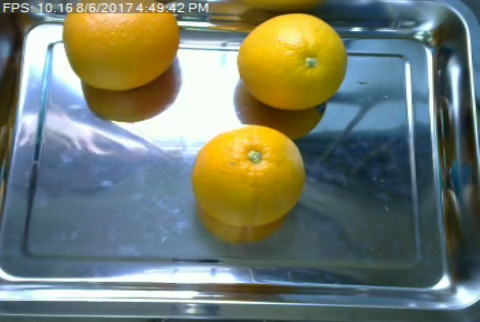Orange: (191, 125, 304, 222), (235, 11, 346, 108), (61, 11, 180, 88)
